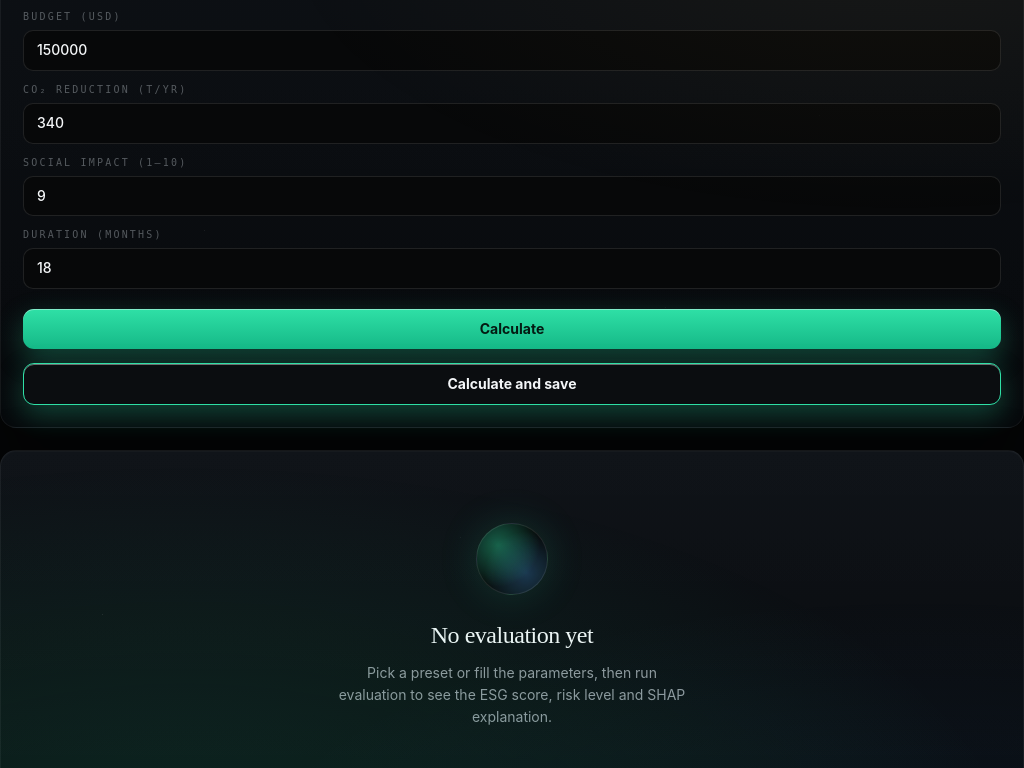
a save that is not confirmed is not shown as one › a dropped connection: not confirmed, no id, nothing retried
The width and height of the screenshot is (1024, 768).
(page scrolled)
Click the button "Calculate and save". click: (512, 384)
box: [23,363,1001,405]
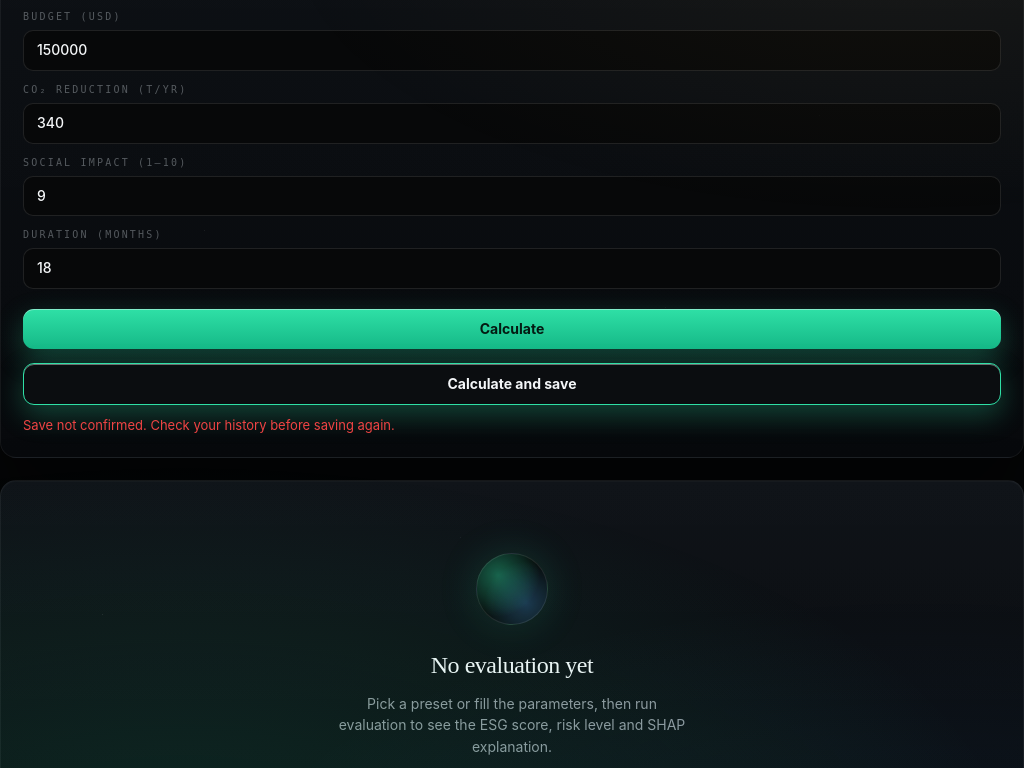
Check: the message shows "Save not confirmed. Check your history", box [23,417,395,433]
